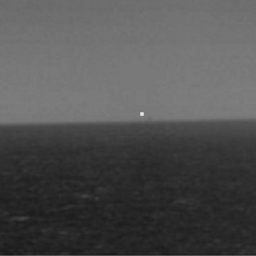Target: (139, 111, 145, 117)
